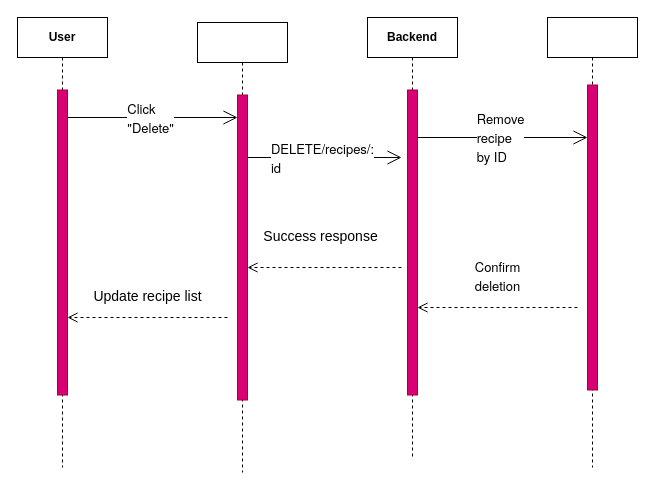
The diagram is 655 pixels wide and 490 high, and some of its shapes have lost their labels. Each missing label, with the box of its shape:
Database: (546, 16, 638, 468)
Frontend: (196, 22, 288, 472)
